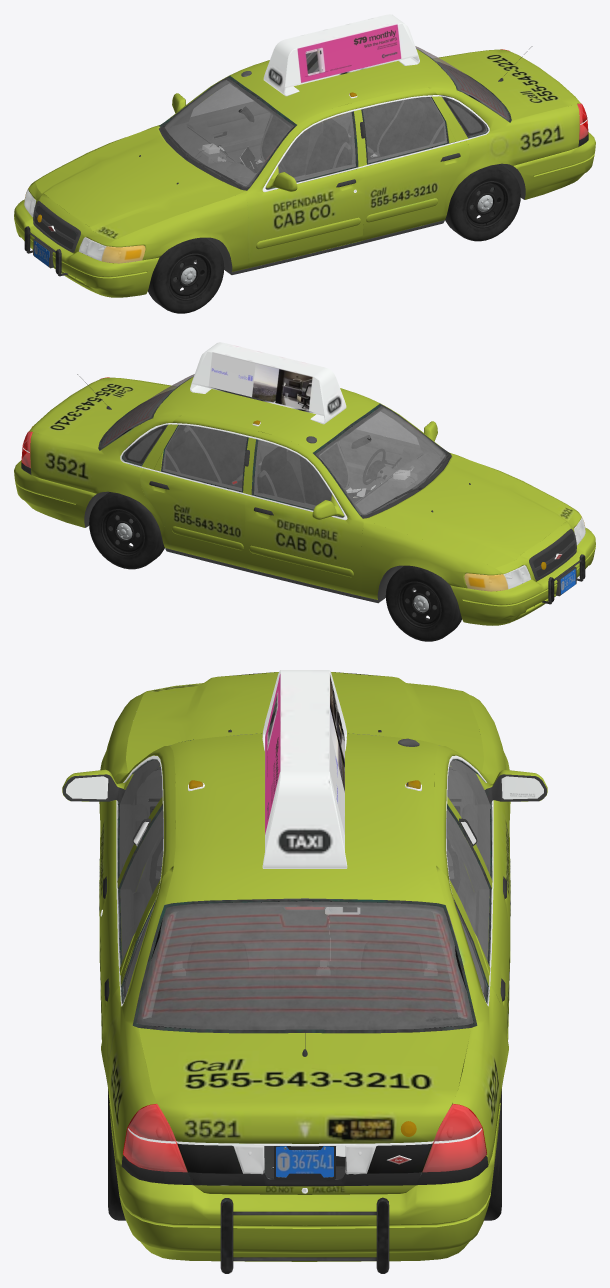
The model's file is taxi-driving.glb.
3 views of the same model, one above another, from view 1: azimuth 30°, elevation 25°; view 2: azimuth 150°, elevation 25°; view 3: azimuth 270°, elevation 25° (orthographic). The views are drawn at different scales.
Visible parts, largest first — view 1: body_34, body_29, body_31, body_35, body_41, body_3, body_52, body_32, body_21, wheel_2_2, wheel_0_1, body_10 (+10 smaller); view 2: body_34, body_29, body_31, body_38, body_5, body_3, body_52, body_32, body_21, wheel_3_2, wheel_1_1, body_14 (+11 smaller); view 3: body_34, body_21, body_9, body_31, body_29, body_52, body_47, body_32, body_20, body_41, body_5, body_54 (+17 smaller).
Boxes of the visible parts, x1,y1,x2,y2 form: body_34: [14, 49, 595, 297]; body_29: [35, 126, 246, 239]; body_31: [163, 49, 509, 187]; body_35: [246, 102, 364, 267]; body_41: [355, 87, 470, 240]; body_3: [163, 78, 293, 187]; body_52: [263, 14, 419, 96]; body_32: [24, 58, 588, 274]; body_21: [434, 49, 580, 120]; wheel_2_2: [148, 237, 224, 313]; wheel_0_1: [445, 164, 520, 241]; body_10: [363, 97, 447, 163]; body_34: [14, 377, 595, 625]; body_29: [363, 454, 574, 567]; body_31: [100, 378, 446, 515]; body_38: [245, 430, 363, 595]; body_5: [139, 415, 254, 568]; body_3: [316, 406, 446, 515]; body_52: [190, 342, 346, 424]; body_32: [21, 386, 585, 625]; body_21: [29, 377, 175, 448]; wheel_3_2: [385, 565, 461, 641]; wheel_1_1: [89, 492, 164, 569]; body_14: [162, 425, 246, 491]; body_34: [99, 672, 510, 1261]; body_21: [139, 1028, 470, 1194]; body_9: [136, 901, 473, 1029]; body_31: [123, 672, 486, 1029]; body_29: [126, 672, 483, 772]; body_52: [262, 670, 347, 868]; body_47: [149, 836, 460, 970]; body_32: [106, 733, 503, 1261]; body_20: [176, 1141, 433, 1193]; body_41: [100, 788, 175, 1040]; body_5: [434, 788, 509, 1039]; body_54: [220, 1197, 389, 1273].
Size of the model in its own units: 1079 by 389 by 432.
Materials: 6 (6 with a texture image).
